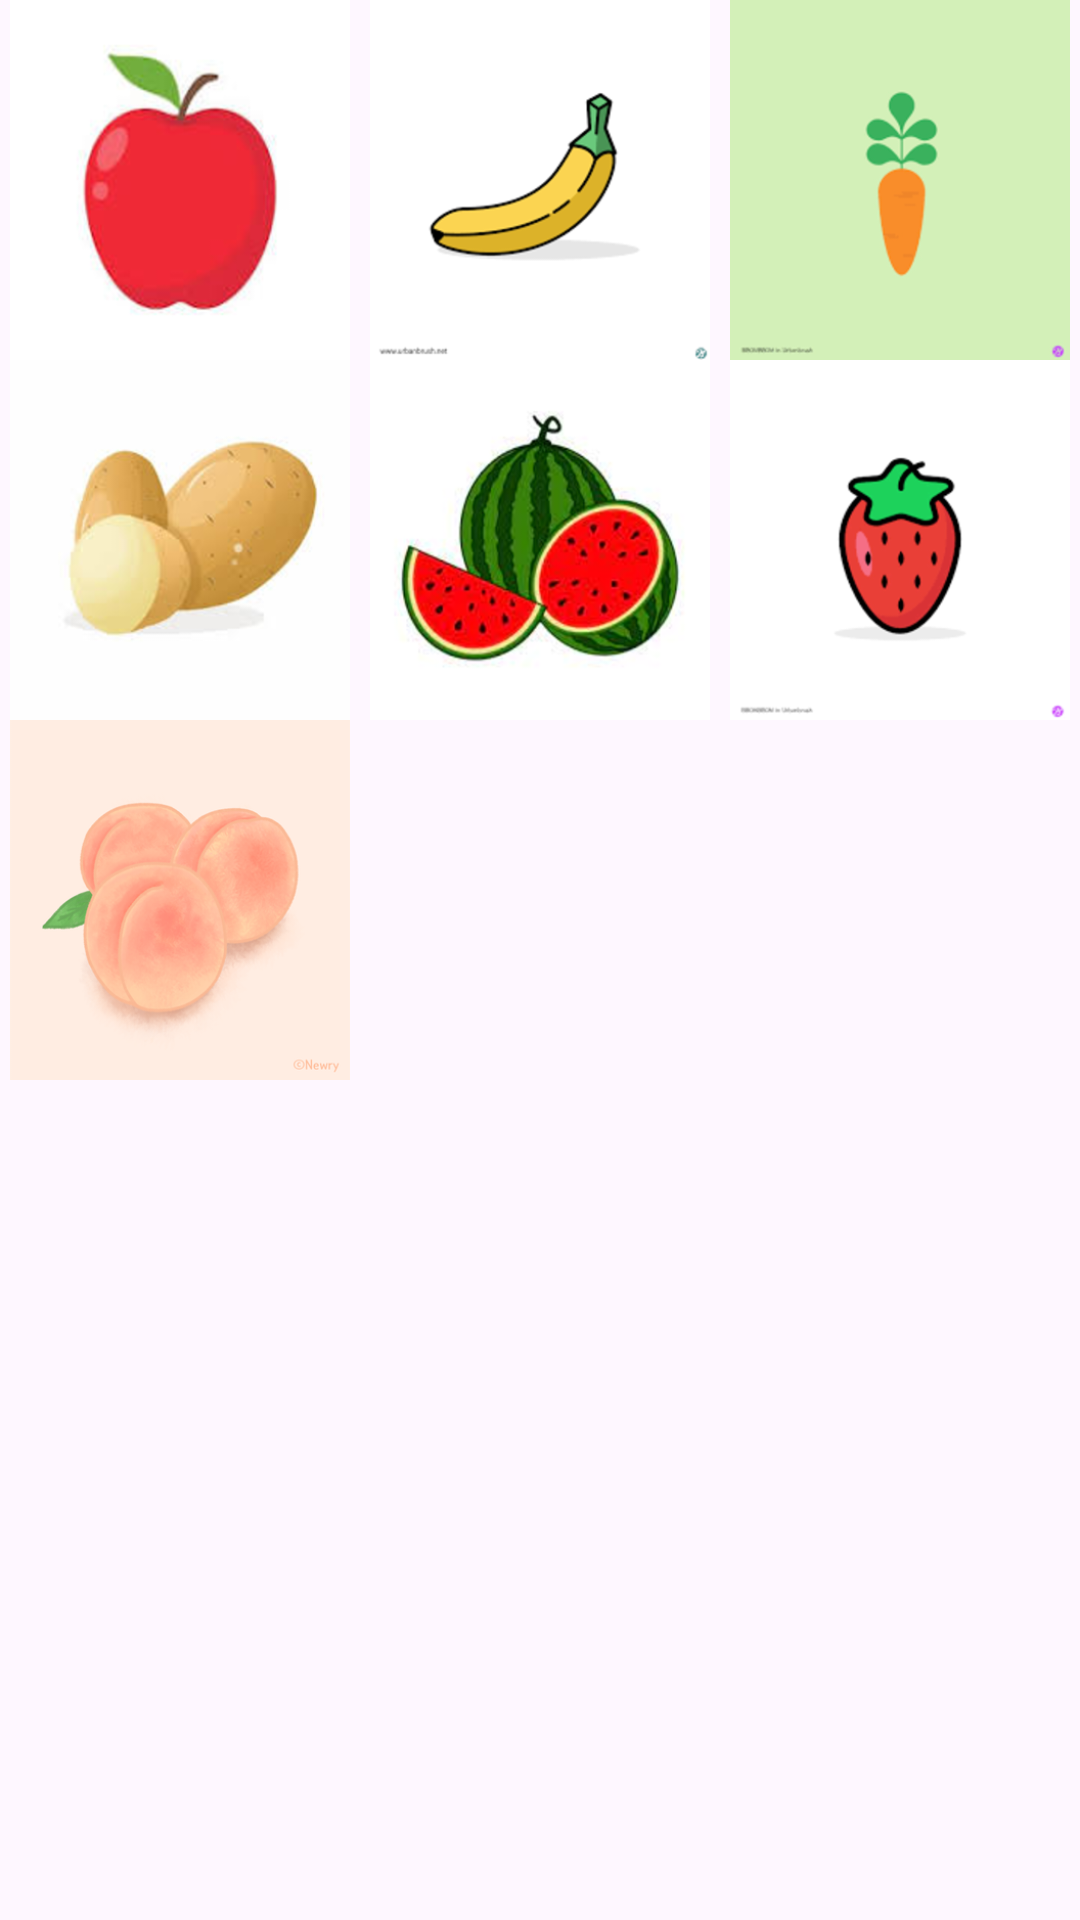

Where to tap for icons on this 1080px x 1920px app screen, as [x,y]:
apple: [180,182]
banana: [543,226]
carrot: [900,180]
peach: [180,900]
potato: [193,538]
strawberry: [902,587]
watermelon: [540,537]
